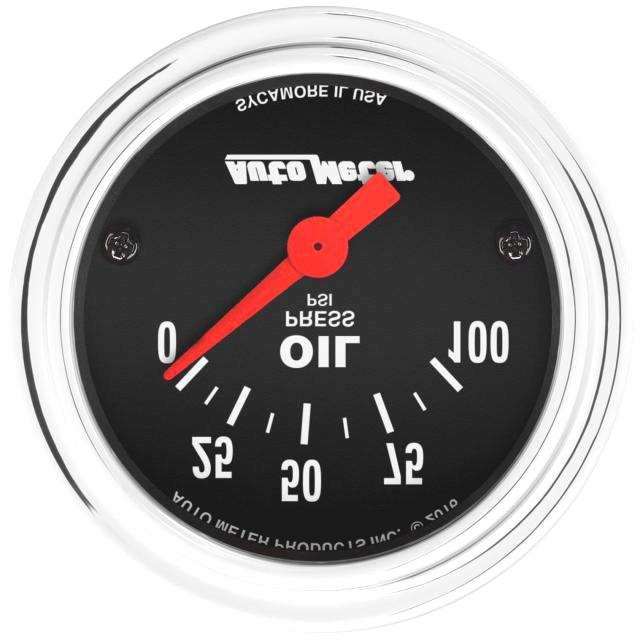Needle_Tip: (148, 307, 247, 399)
Needle_base: (276, 215, 371, 285)
max_value: (426, 309, 535, 377)
min_value: (132, 309, 199, 377)
